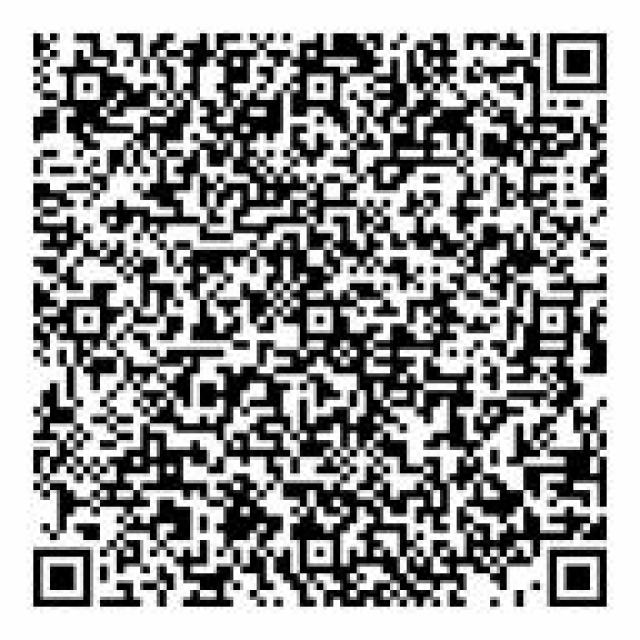QR_CODE: (23, 20, 617, 623)
